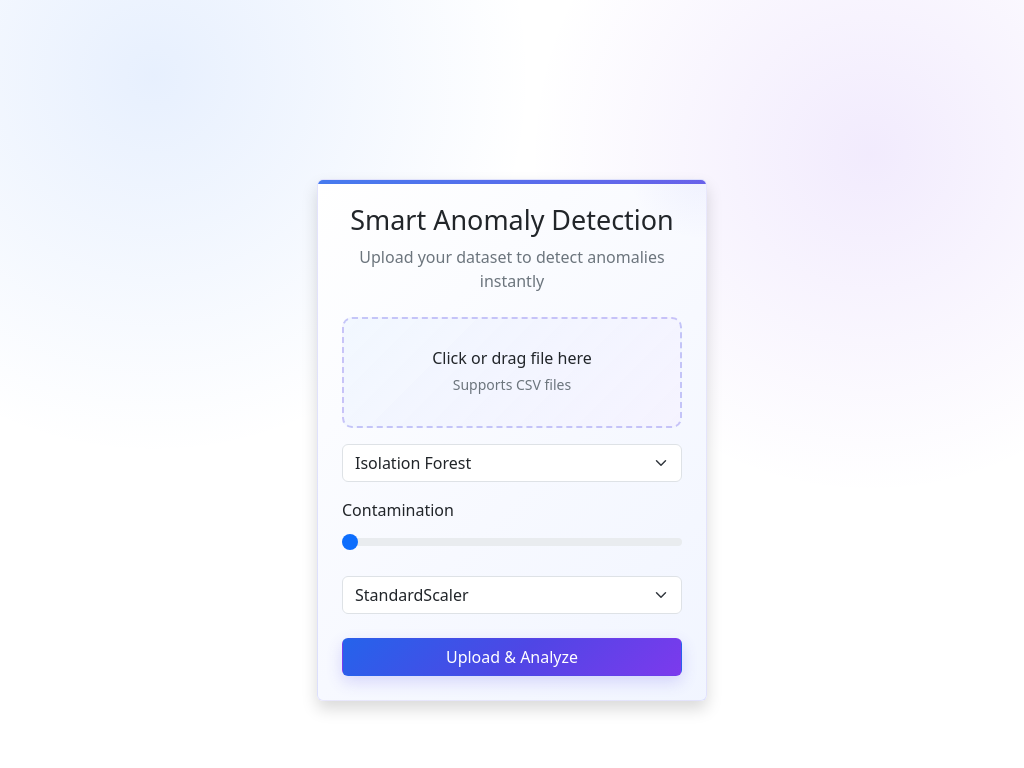
Test: Home upload page › warns when no CSV is selected
The width and height of the screenshot is (1024, 768).
Click the button "Upload & Analyze": (512, 657) [342, 638, 682, 676]
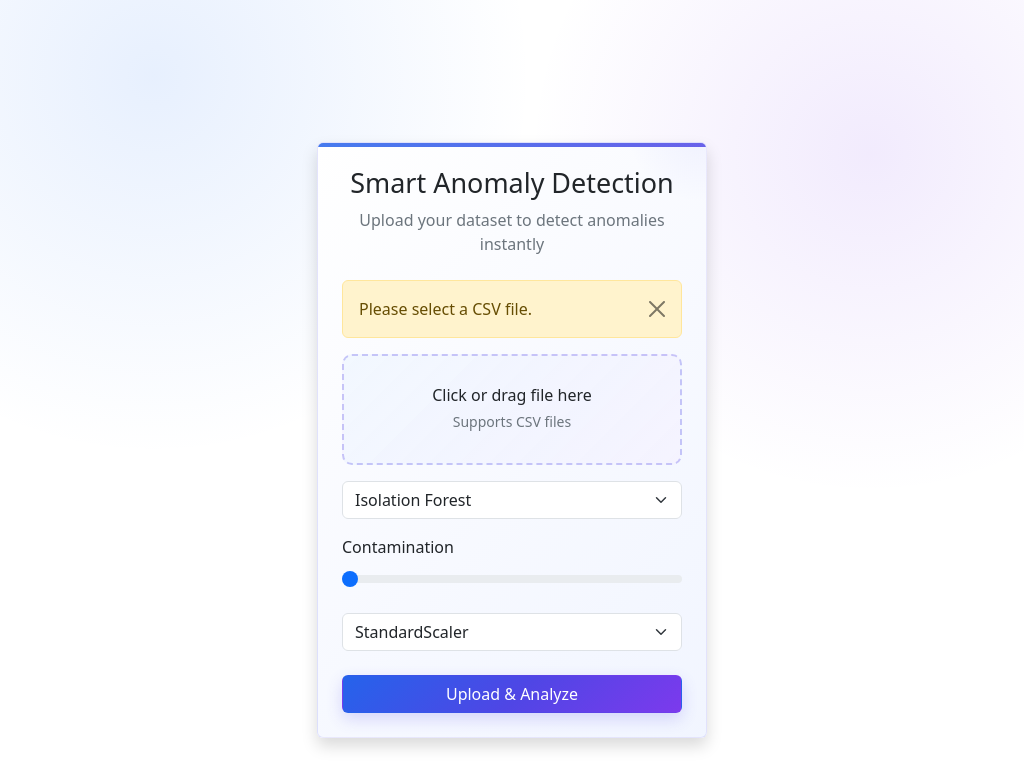
Now the message reads "Please select a CSV file.", box [359, 298, 532, 320]
